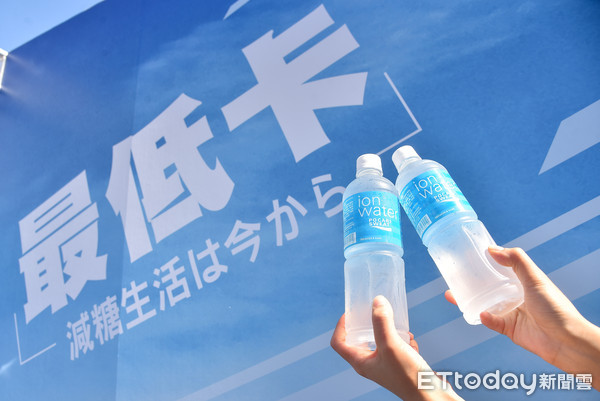POCARI SWEAT: (394, 146, 527, 323), (345, 152, 406, 344)
